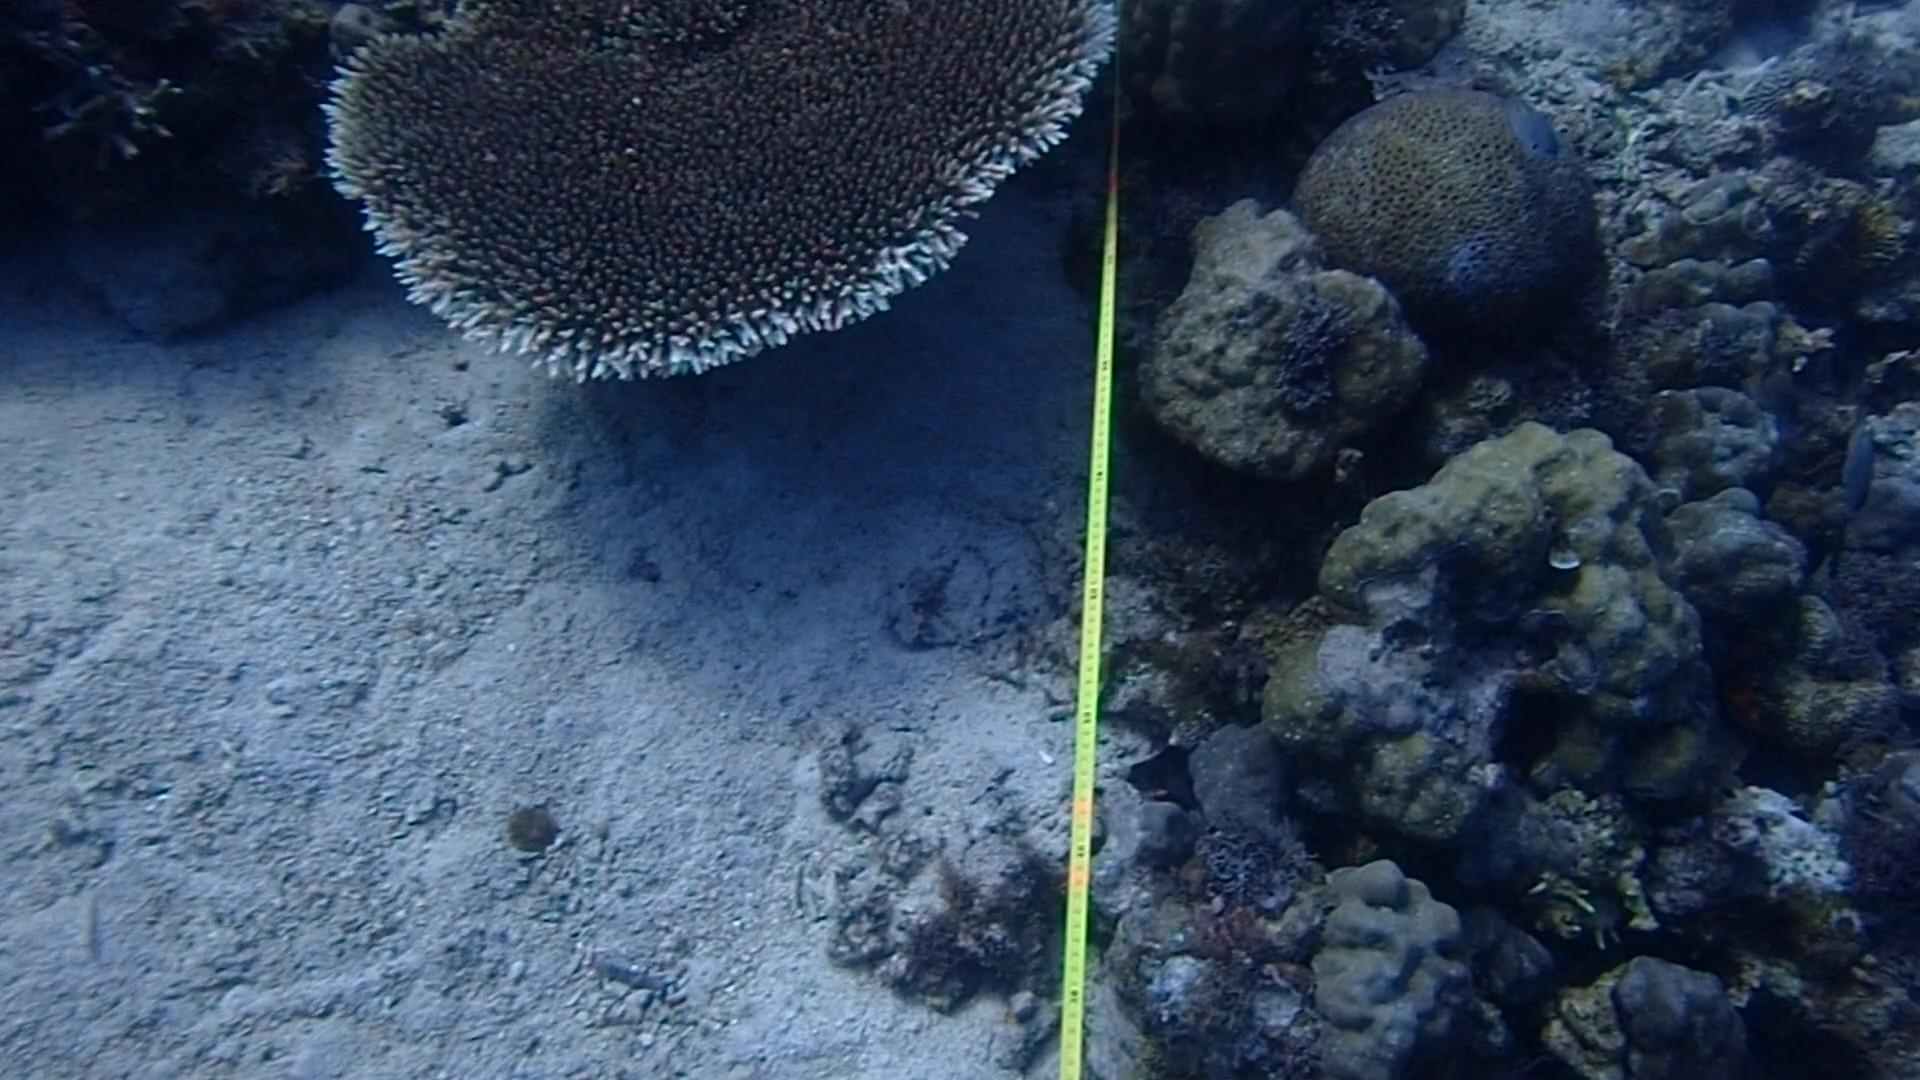Light Fish: (1487, 83, 1572, 165), (1836, 401, 1890, 525)
